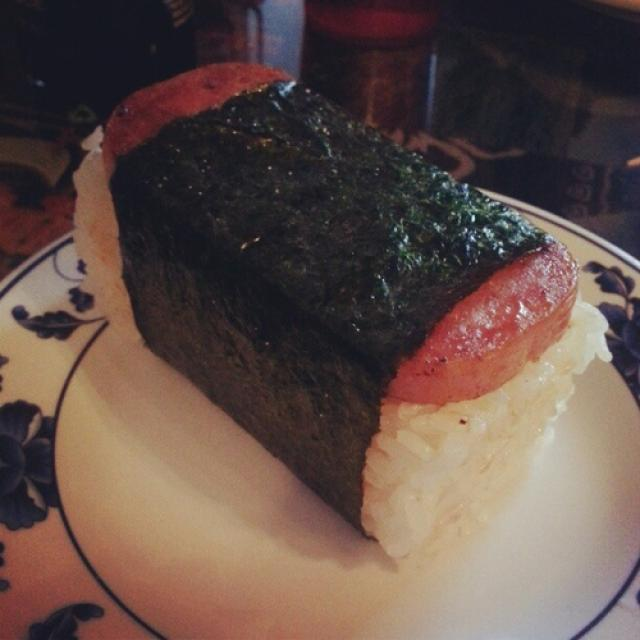寿司卷物: (36, 42, 619, 592)
